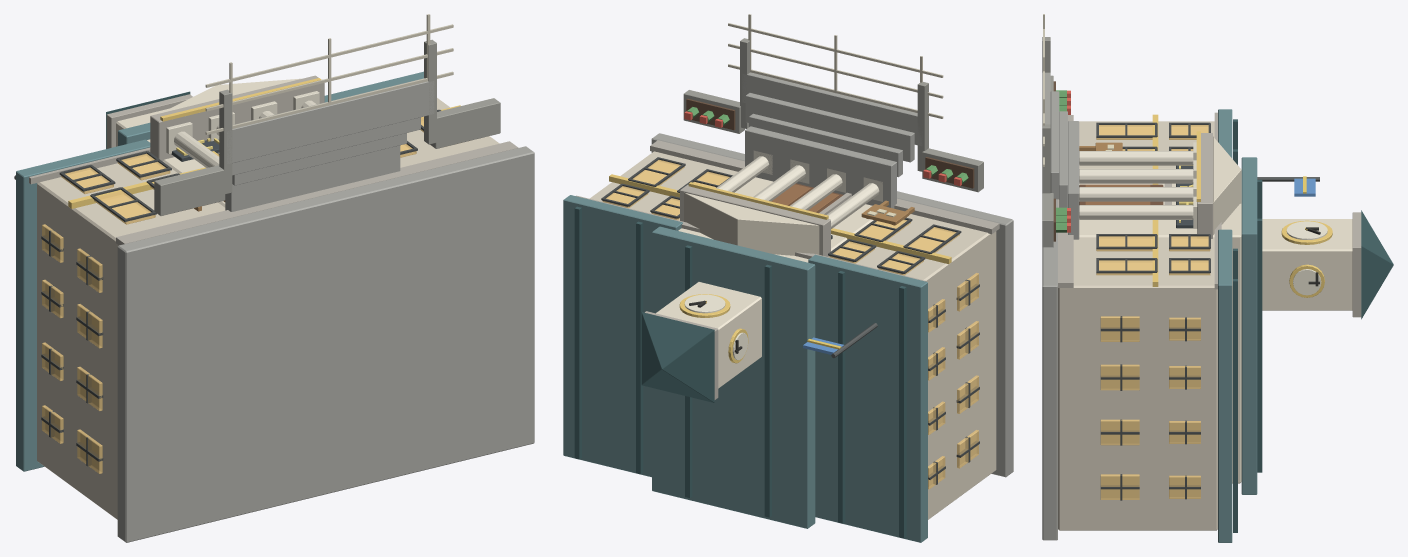
File: cityhall.fbx
3 renders of one model, left to right at view 1: azimuth 30°, elevation 25°; view 2: azimuth 150°, elevation 25°; view 3: azimuth 270°, elevation 25°, orthographic. The views are drawn at different scales.
Visible parts, largest first — view 1: MainBuilding_Foundation, MainBuilding, FrontSteps, Roof_LeftWing, MainEntrance, MainBuilding_LowerStoneBand, Portico, Flowerbed_01_Border, FrontSteps_02, Flowerbed_02_Border, FrontSteps_03, LowDecorativeBorder_01 (+18 smaller); view 2: Roof, Roof_LeftWing, Roof_RightWing, MainBuilding, MainBuilding_Foundation, ClockTower_Roof, MainEntrance, Portico_Pediment, ClockTower, FrontSteps, FrontSteps_02, MainBuilding_LowerStoneBand (+29 smaller); view 3: MainBuilding, ClockTower, Roof, MainBuilding_Foundation, Roof_RightWing, MainBuilding_CentralRaised, Portico_Pediment, ClockTower_Roof, Column_01, Column_02, Column_03, Column_04 (+28 smaller).
Boxes of the visible parts, <box> form: MainBuilding_Foundation: <box>117,146,534,542</box>; MainBuilding: <box>37,98,499,519</box>; FrontSteps: <box>227,78,434,163</box>; Roof_LeftWing: <box>16,139,150,471</box>; MainEntrance: <box>225,145,400,211</box>; MainBuilding_LowerStoneBand: <box>116,141,518,245</box>; Portico: <box>150,75,324,161</box>; Flowerbed_01_Border: <box>154,165,225,215</box>; FrontSteps_02: <box>232,117,420,175</box>; Flowerbed_02_Border: <box>430,98,500,148</box>; FrontSteps_03: <box>232,133,406,185</box>; LowDecorativeBorder_01: <box>219,89,232,194</box>; Roof: <box>652,226,815,528</box>; Roof_LeftWing: <box>808,254,927,542</box>; Roof_RightWing: <box>563,195,682,477</box>; MainBuilding: <box>589,151,996,519</box>; MainBuilding_Foundation: <box>651,133,1013,477</box>; ClockTower_Roof: <box>641,312,714,402</box>; MainEntrance: <box>745,126,896,208</box>; Portico_Pediment: <box>684,192,819,255</box>; ClockTower: <box>656,282,761,388</box>; FrontSteps: <box>742,72,922,146</box>; FrontSteps_02: <box>745,93,914,162</box>; MainBuilding_LowerStoneBand: <box>650,140,999,234</box>; MainBuilding: <box>1058,121,1217,530</box>; ClockTower: <box>1262,219,1352,310</box>; Roof: <box>1241,157,1257,494</box>; MainBuilding_Foundation: <box>1042,199,1057,540</box>; Roof_RightWing: <box>1218,229,1232,542</box>; MainBuilding_CentralRaised: <box>1079,168,1241,483</box>; Portico_Pediment: <box>1213,136,1241,234</box>; ClockTower_Roof: <box>1361,210,1393,319</box>; Column_01: <box>1079,151,1193,165</box>; Column_02: <box>1079,169,1193,183</box>; Column_03: <box>1079,187,1193,201</box>; Column_04: <box>1079,205,1193,219</box>.
Bounding box in the file's own units: 585 × 620 × 494.
